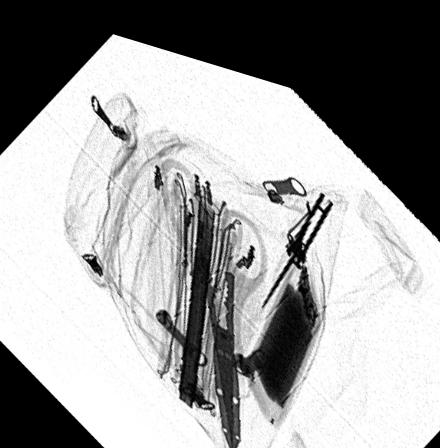Knife: (253, 163, 342, 296)
Powerbank: (237, 235, 325, 408)
Scissors: (155, 146, 267, 440)
